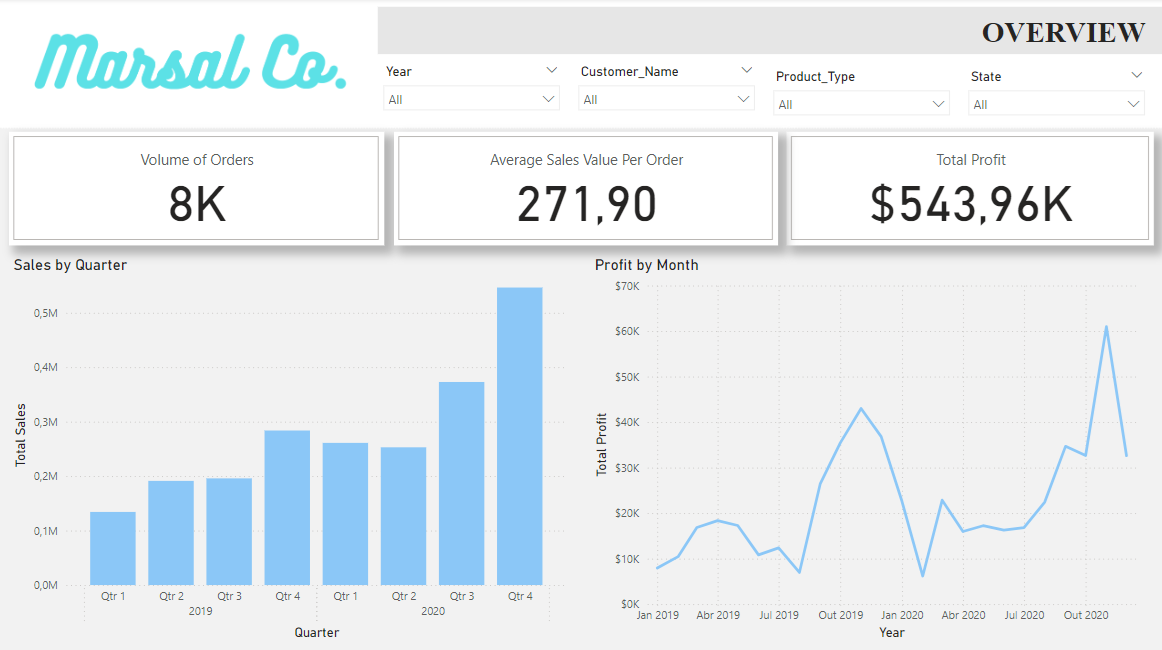

The dashboard page shown, as its layout file describes it:
{"tool":"powerbi","page":{"name":"Overview","canvas":[1280,720],"ordinal":0},"visuals":[{"type":"cardVisual","title":"Volume of Orders","fields":{"Data":["_Measures.Order_Volume"]},"box":[11,146.8,411.7,124.9],"z":0},{"type":"cardVisual","fields":{"Data":["_Measures.Total Profit"]},"box":[864.5,146.8,403.4,124.9],"z":1000},{"type":"cardVisual","title":"Average Order Value","fields":{"Data":["_Measures.Average Sales Value Per Order"]},"box":[433.6,146.8,421.3,124.9],"z":2000},{"type":"columnChart","title":"Sales by Quarter","fields":{"Category":["Dim_Date.Date.Variation.Date Hierarchy.Year","Dim_Date.Date.Variation.Date Hierarchy.Quarter"],"Y":["_Measures.Total Sales"]},"box":[11,282.7,617.5,426.8],"z":3000},{"type":"lineChart","title":"Profit by Month","fields":{"Y":["_Measures.Total Profit"],"Category":["Dim_Date.Date.Variation.Date Hierarchy.Year","Dim_Date.Date.Variation.Date Hierarchy.Month"]},"box":[649.1,282.7,618.9,426.8],"z":4000},{"type":"slicer","fields":{"Values":["Dim_Location.State"]},"box":[1053.9,72.7,214.1,67.2],"z":5000},{"type":"slicer","fields":{"Values":["Dim_Date.Date.Variation.Date Hierarchy.Year"]},"box":[411.7,67.2,214.1,67.2],"z":6000},{"type":"slicer","fields":{"Values":["Dim_Client.Customer_Name"]},"box":[625.7,67.2,214.1,67.2],"z":7000},{"type":"slicer","fields":{"Values":["Dim_Product.Product_Type"]},"box":[839.8,72.7,214.1,67.2],"z":8000},{"type":"image","box":[11,9.6,391.1,124.9],"z":9000},{"type":"shape","box":[415.5,9.6,864.5,52.1],"z":9001},{"type":"textbox","box":[980.9,9.6,299.1,52.1],"z":9002}]}

Visuals, with their boxes in screenshot pixels (x1, y1, x2, y2), scaled from the page's 1280x720 canvas onto the 1162x650 screenshot:
"Volume of Orders" cardVisual: left=10, top=133, right=384, bottom=245
cardVisual - _Measures.Total Profit: left=785, top=133, right=1151, bottom=245
"Average Order Value" cardVisual: left=394, top=133, right=776, bottom=245
"Sales by Quarter" columnChart: left=10, top=255, right=571, bottom=641
"Profit by Month" lineChart: left=589, top=255, right=1151, bottom=641
slicer - Dim_Location.State: left=957, top=66, right=1151, bottom=126
slicer - Dim_Date.Date.Variation.Date Hierarchy.Year: left=374, top=61, right=568, bottom=121
slicer - Dim_Client.Customer_Name: left=568, top=61, right=762, bottom=121
slicer - Dim_Product.Product_Type: left=762, top=66, right=957, bottom=126
image: left=10, top=9, right=365, bottom=121
shape: left=377, top=9, right=1161, bottom=56
textbox: left=890, top=9, right=1161, bottom=56
